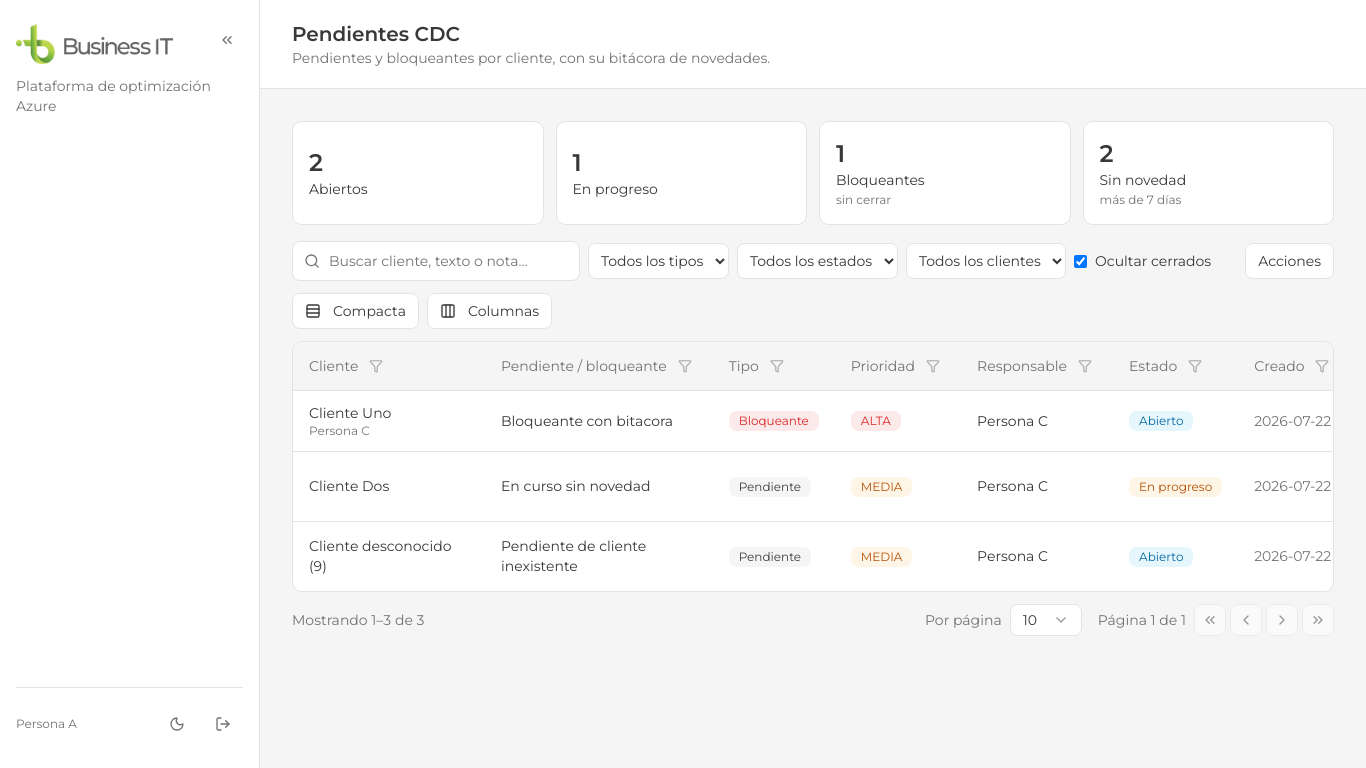
it: un lector no ve acciones de escritura
The width and height of the screenshot is (1366, 768).
Note: La ficha se abre igual, pero de solo lectura: sin caja de notas, sin Guardar y sin campos activos.
What coordinates should you click on to do the following:
click the text "Bloqueante con bitacora"
I would click on:
 (599, 420)
Its box is [501, 410, 697, 430].
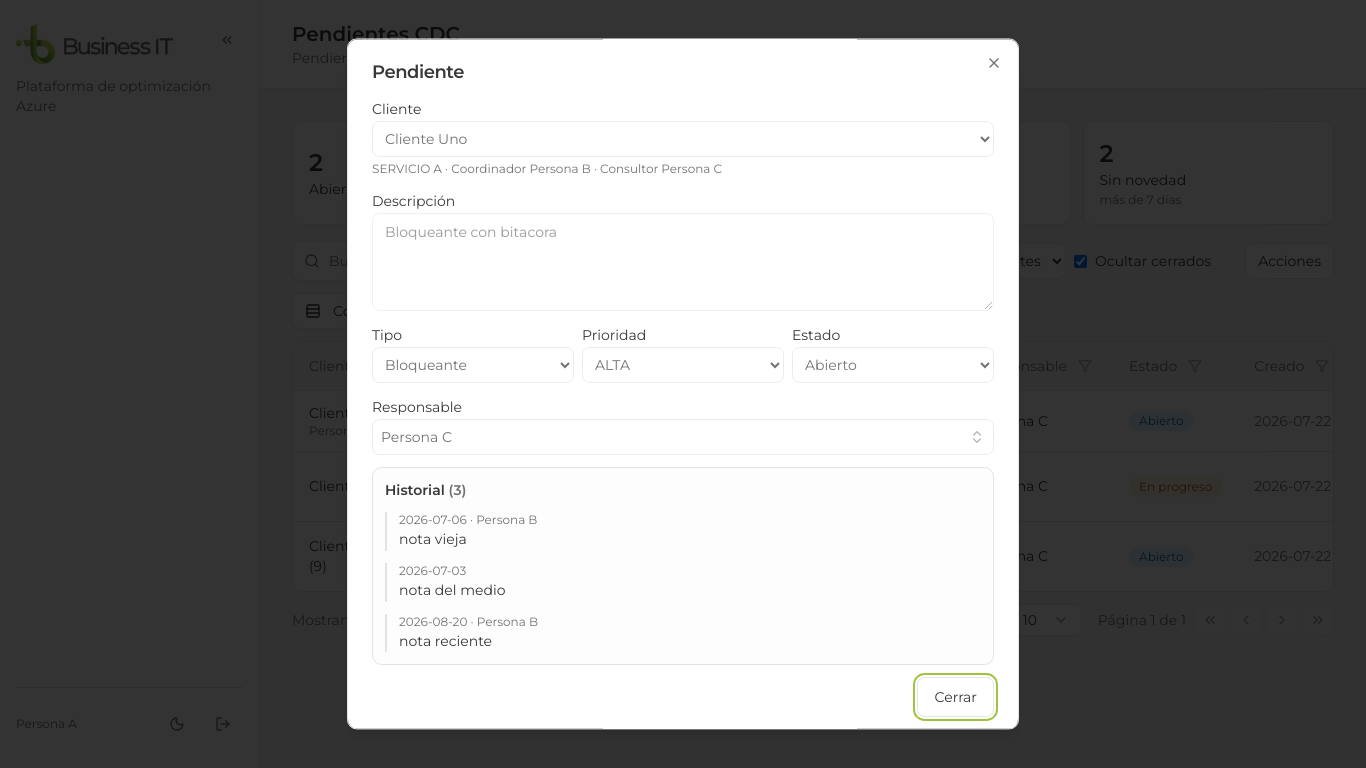
Result: the text box labelled "Descripción" is disabled at [372, 213, 994, 311]
Result: the button named "responsable" is disabled at [372, 419, 994, 455]
Result: the number of list items is 3 at [385, 512, 977, 551]; [385, 563, 977, 602]; [385, 614, 977, 653]
